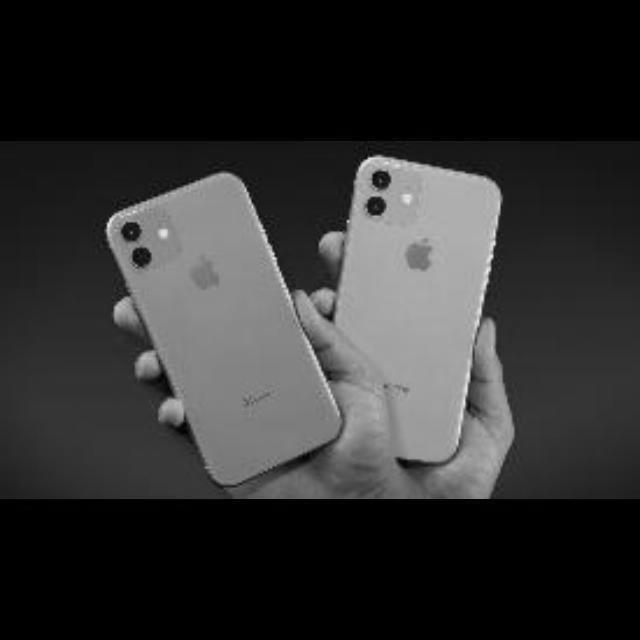fake: (82, 159, 348, 493), (331, 144, 505, 482)
